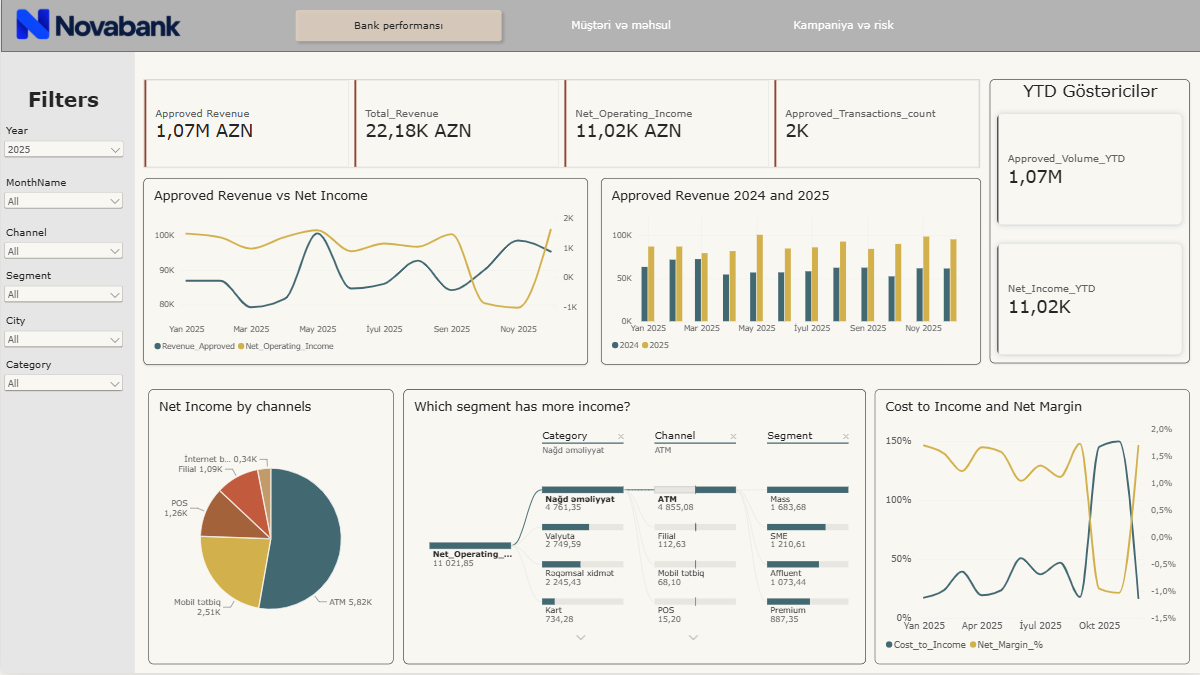

The page's visual inventory and layout, read from the dashboard file:
{"tool":"powerbi","page":{"name":"Bank performansı","canvas":[1920,1080],"ordinal":0},"visuals":[{"type":"shape","box":[0,86,214,994],"z":0},{"type":"cardVisual","fields":{"Data":["Metrics.Revenue_Approved","Metrics.Total_Revenue","Metrics.Net_Operating_Income","Metrics.Approved_Transactions_count"]},"box":[228,130,1340,142],"z":1000},{"type":"lineChart","title":"Approved Revenue vs Net Income","fields":{"Category":["Calendar.MonthStart"],"Y":["Metrics.Revenue_Approved"],"Y2":["Metrics.Net_Operating_Income"]},"box":[228.6,288.9,710.8,299.3],"z":2000},{"type":"shape","box":[0,0,1920,86],"z":3000},{"type":"pageNavigator","box":[462,10,1062,68],"z":4000},{"type":"slicer","fields":{"Values":["Calendar.Year"]},"box":[0,202,200.9,67],"z":5000},{"type":"slicer","fields":{"Values":["Calendar.MonthName"]},"box":[0,284,200,65.7],"z":6000},{"type":"slicer","fields":{"Values":["Customers.Segment"]},"box":[0,434,200,70],"z":7000},{"type":"slicer","fields":{"Values":["Transactions_2024_2025.Channel"]},"box":[0,364,200,70],"z":8000},{"type":"slicer","fields":{"Values":["Branches.City"]},"box":[0,506,200,70],"z":9000},{"type":"image","box":[0,0,312,84],"z":10000},{"type":"cardVisual","title":"YTD Göstəricilər","fields":{"Data":["Metrics.Approved_Volume_YTD","Metrics.Net_Income_YTD"]},"box":[1582,130,320,454],"z":11000},{"type":"pieChart","title":"Net Income by channels","fields":{"Category":["Transactions_2024_2025.Channel"],"Y":["Metrics.Net_Income_YTD"]},"box":[236,626,392,440],"z":12000},{"type":"decompositionTreeVisual","title":"Which segment has more income?","fields":{"Analyze":["Metrics.Net_Operating_Income"],"ExplainBy":["Products.Category","Transactions_2024_2025.Channel","Customers.Segment"]},"box":[644,626,740,440],"z":13000},{"type":"textbox","box":[0,142,200,44],"z":14000},{"type":"clusteredColumnChart","title":"Approved Revenue 2024 and 2025 ","fields":{"Category":["Calendar.MonthStart"],"Y":["Metrics.Approved_Volume_PY","Metrics.Revenue_Approved"]},"box":[960,288,608,298],"z":15000},{"type":"slicer","fields":{"Values":["Products.Category"]},"box":[0,576.7,200,70],"z":16000},{"type":"lineChart","title":"Cost to Income and Net Margin","fields":{"Category":["Calendar.MonthStart"],"Y":["Metrics.Cost_to_Income"],"Y2":["Metrics.Net_Margin_%"]},"box":[1398,626,504,440],"z":17000}]}

Visuals, with their boxes in screenshot pixels (x1, y1, x2, y2), scaled from the page's 1920x1080 canvas onto the 1200x675 screenshot:
shape: [0,54,134,674]
cardVisual - Metrics.Revenue_Approved x Metrics.Total_Revenue: [142,81,980,170]
"Approved Revenue vs Net Income" lineChart: [143,181,587,368]
shape: [0,0,1199,54]
pageNavigator: [289,6,952,49]
slicer - Calendar.Year: [0,126,126,168]
slicer - Calendar.MonthName: [0,178,125,219]
slicer - Customers.Segment: [0,271,125,315]
slicer - Transactions_2024_2025.Channel: [0,228,125,271]
slicer - Branches.City: [0,316,125,360]
image: [0,0,195,52]
"YTD Göstəricilər" cardVisual: [989,81,1189,365]
"Net Income by channels" pieChart: [148,391,392,666]
"Which segment has more income?" decompositionTreeVisual: [402,391,865,666]
textbox: [0,89,125,116]
"Approved Revenue 2024 and 2025 " clusteredColumnChart: [600,180,980,366]
slicer - Products.Category: [0,360,125,404]
"Cost to Income and Net Margin" lineChart: [874,391,1189,666]
